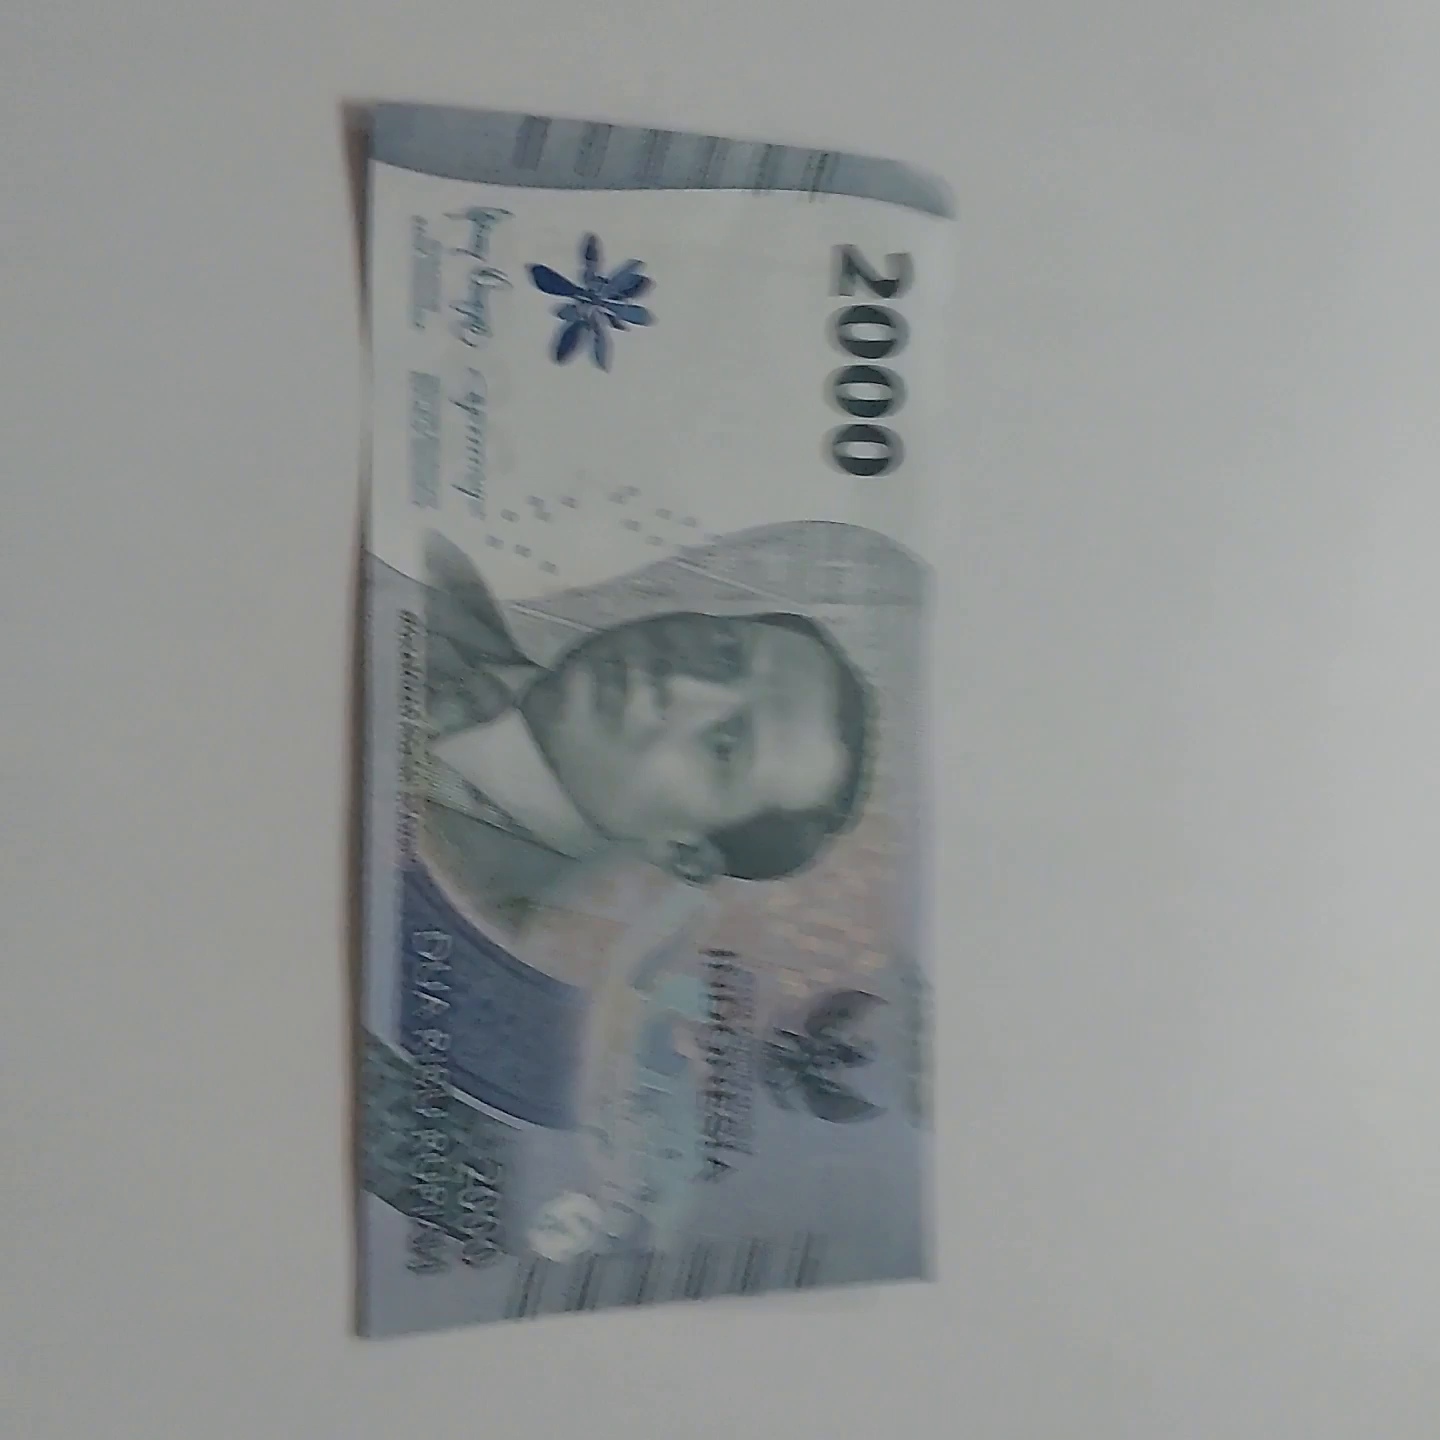2k: (306, 67, 973, 1341)
